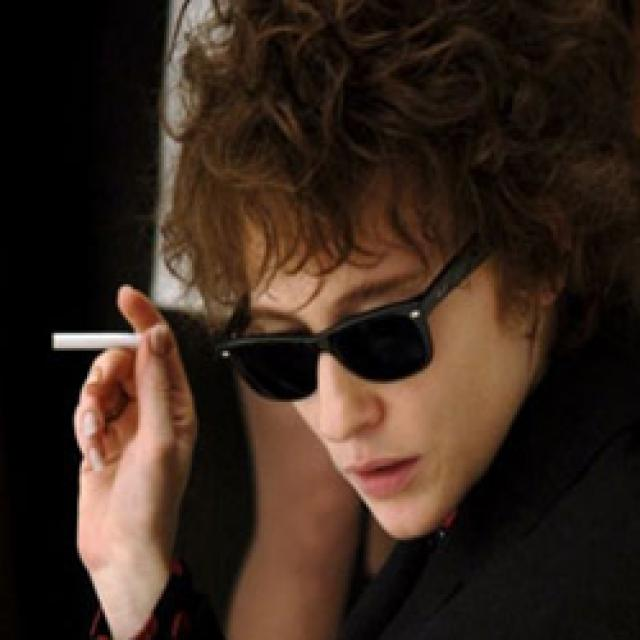Smooking: (33, 320, 146, 358)
